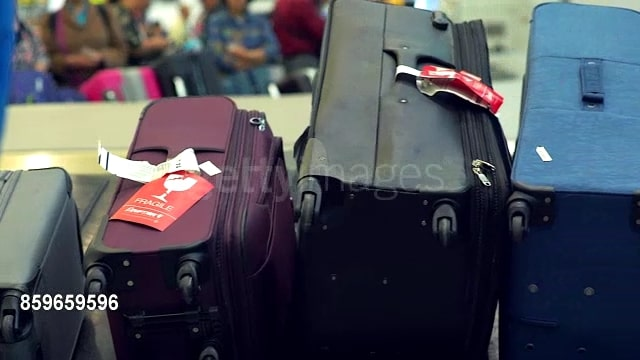baggage: (286, 3, 511, 353), (86, 91, 293, 360), (507, 7, 640, 360)
